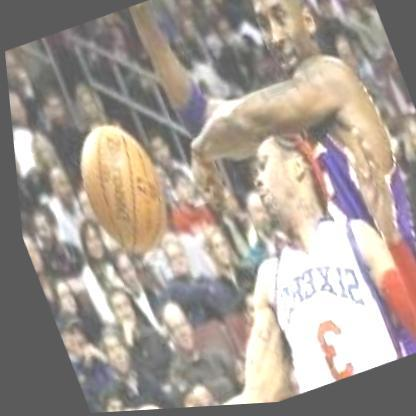basketball: (54, 109, 185, 274)
